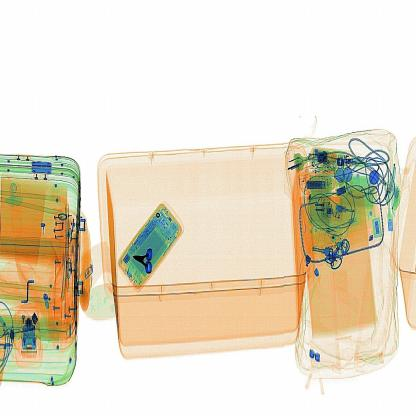gun: (126, 236, 165, 274)
